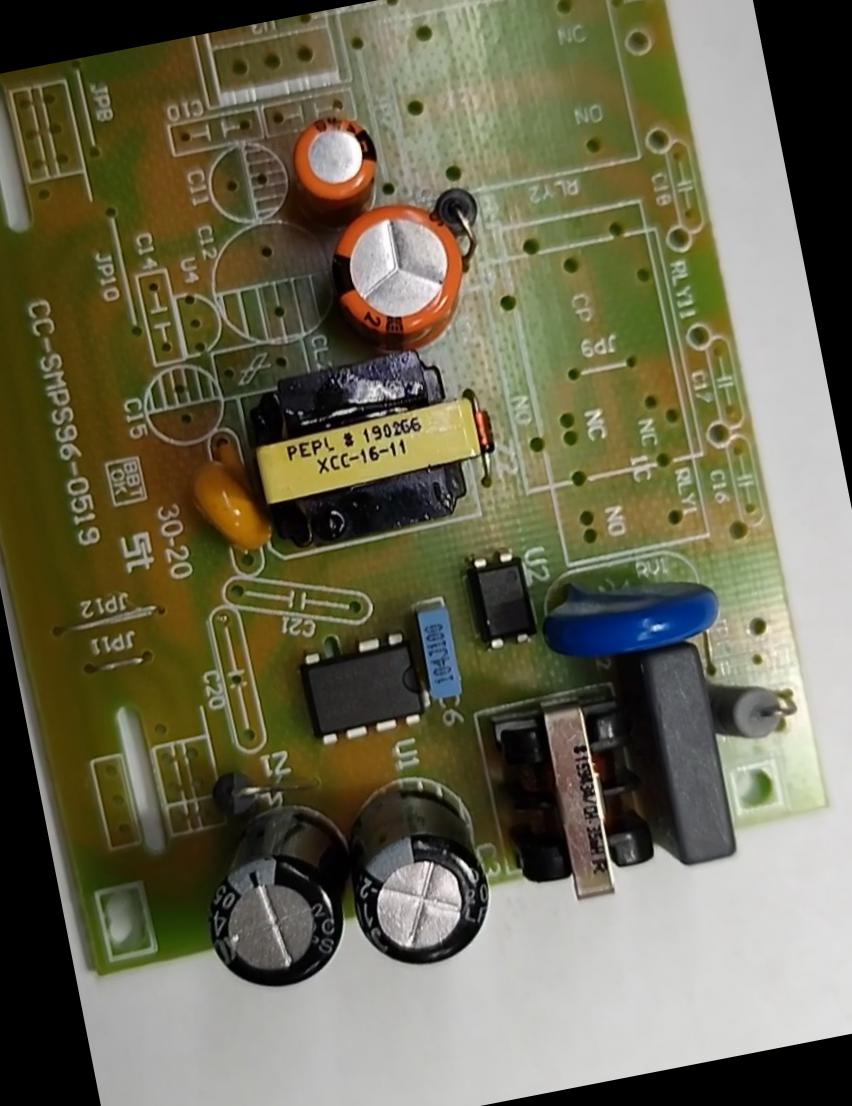Cap1: (308, 188, 489, 372)
Cap2: (270, 90, 396, 235)
Cap3: (308, 749, 518, 986)
Cap4: (173, 776, 388, 1008)
MOSFET: (279, 618, 446, 758)
Mov: (516, 536, 732, 684)
Resistor: (700, 660, 805, 758)
Transformer: (223, 322, 515, 563), (472, 676, 684, 925)
